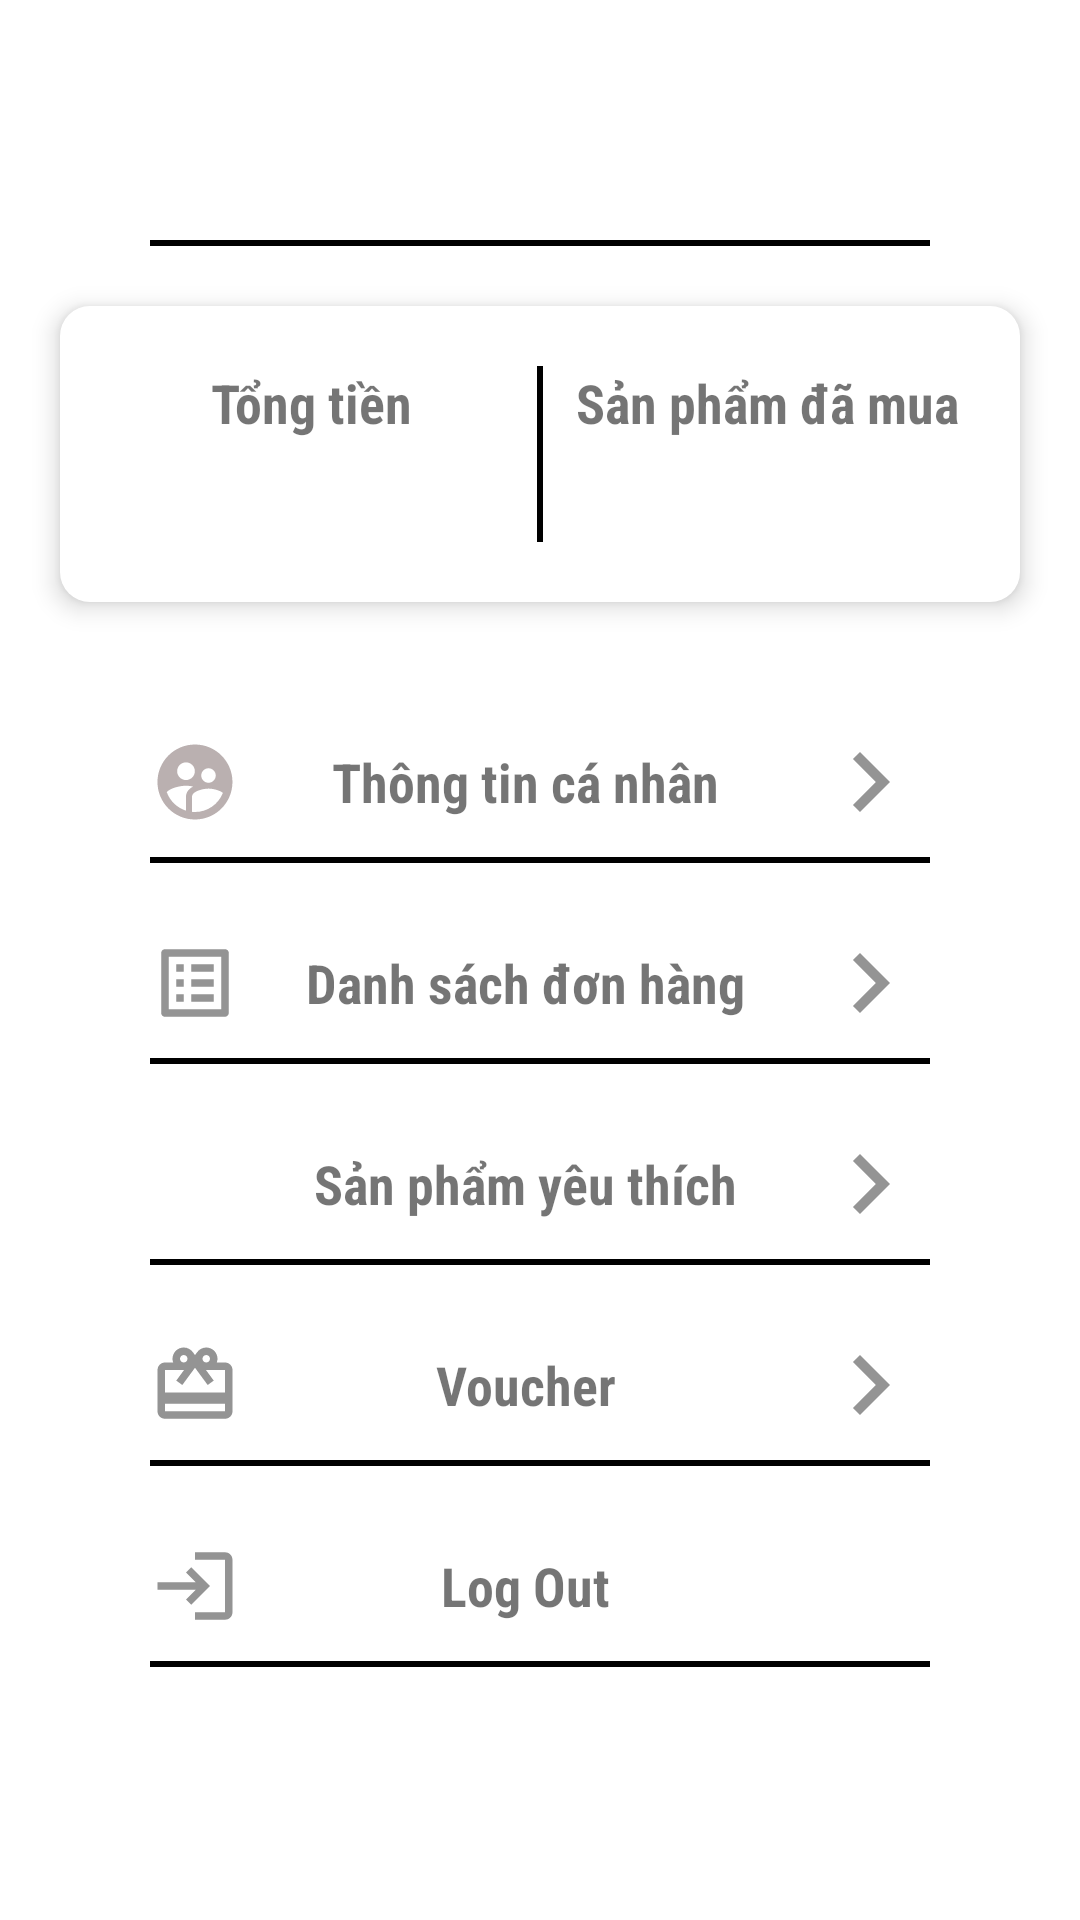

Icon click points for this 1080px×1920px phone screenshot, format [x,y]:
card giftcard: [195,1383]
keyboard arrow right: [871,782], [871,983], [871,1184], [871,1385]
list: [195,983]
login: [195,1586]
supervised user circle: [195,782]
